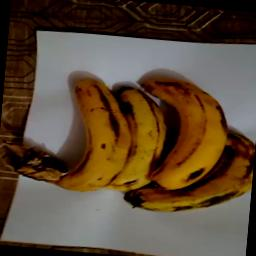Banana Unripe: (13, 66, 132, 194), (108, 78, 170, 196)
